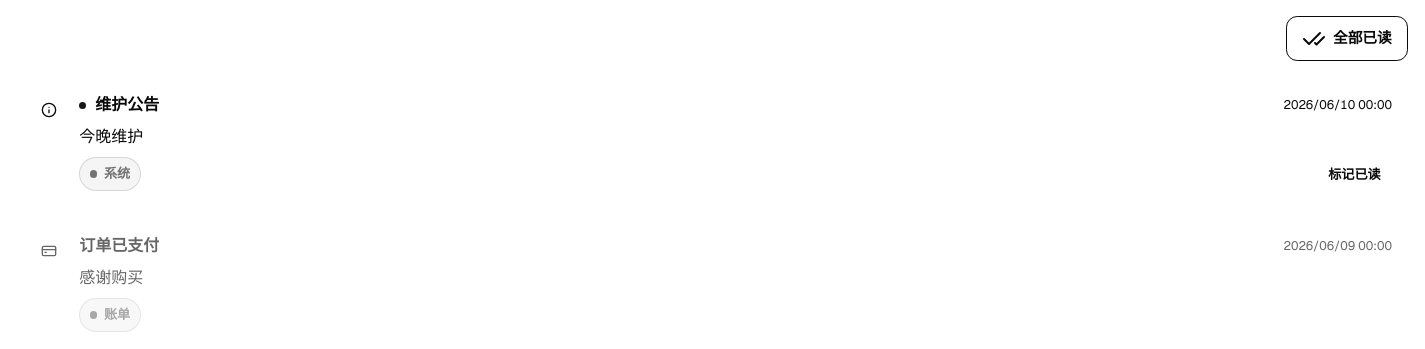
Test case: NotificationsList › renders items with unread state and marks one read optimistically
This screenshot has width=1425, height=349.
Check: the text "维护公告" is shown, box [95,93,159,117]
Note: Click 标记已读 — item dims IMMEDIATELY (optimistic), then POST goes out
Click the button "标记已读" at (1354,174), box [1317,158,1392,190]
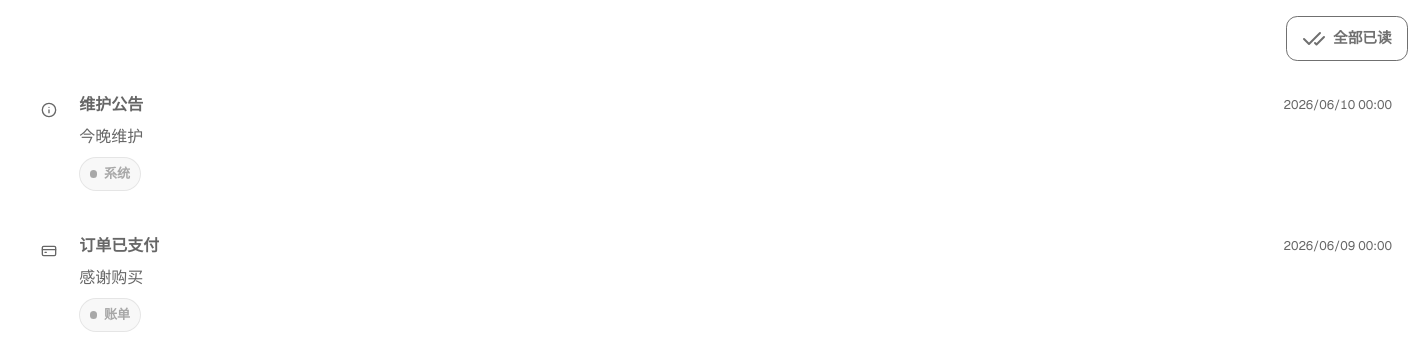
Check: the list item "维护公告 2026/06/10 00:00 今晚维护 系统" has attribute data-read="true", box [16,77,1408,207]
